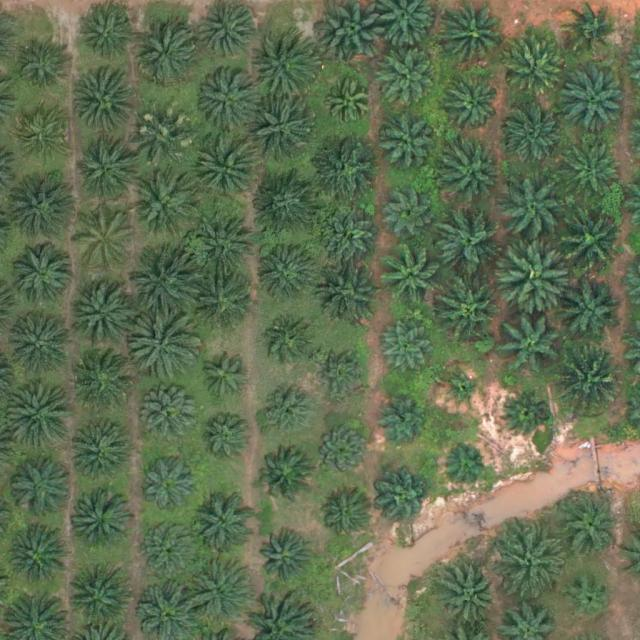Healthy: (309, 135, 380, 206), (437, 138, 508, 209), (5, 379, 76, 449), (9, 310, 79, 381), (130, 310, 200, 381), (130, 252, 200, 323), (249, 97, 319, 168), (436, 270, 506, 341), (503, 176, 573, 247), (559, 204, 629, 275), (557, 342, 627, 413), (495, 529, 565, 600), (12, 174, 82, 244), (74, 278, 144, 348), (251, 30, 321, 100), (254, 168, 324, 238), (437, 207, 507, 277), (501, 310, 571, 380), (504, 242, 574, 312), (559, 64, 629, 134), (183, 555, 253, 625), (15, 243, 78, 306), (74, 69, 137, 132), (72, 209, 135, 272), (69, 353, 132, 416), (72, 493, 135, 556), (195, 214, 258, 277), (194, 272, 257, 335), (255, 241, 318, 304), (375, 48, 438, 111), (505, 33, 568, 96), (560, 496, 623, 559), (440, 564, 503, 627), (67, 569, 130, 632), (7, 526, 70, 589), (11, 456, 73, 519), (72, 425, 134, 488), (140, 454, 202, 517), (135, 22, 197, 85), (199, 142, 261, 205), (194, 494, 256, 557), (319, 258, 382, 320), (381, 244, 443, 307), (439, 5, 501, 68), (506, 104, 568, 167), (563, 135, 625, 198), (559, 281, 621, 344), (74, 141, 136, 203), (134, 176, 196, 238), (196, 73, 258, 135), (197, 411, 252, 467), (143, 521, 198, 577), (318, 490, 373, 545), (315, 423, 370, 478), (315, 348, 370, 403), (263, 320, 318, 375), (259, 385, 314, 440), (17, 107, 72, 162), (15, 39, 70, 94), (83, 9, 138, 64), (144, 393, 199, 448), (322, 77, 377, 132), (380, 111, 435, 166), (385, 186, 440, 241), (380, 324, 435, 379), (378, 473, 433, 528), (195, 353, 249, 408), (257, 448, 311, 503), (323, 213, 377, 268), (377, 390, 431, 445), (448, 81, 502, 136), (260, 533, 314, 588)
Small: (502, 390, 549, 438), (566, 574, 613, 622), (443, 442, 490, 489), (443, 373, 483, 412)
Yellow: (133, 114, 195, 177)
